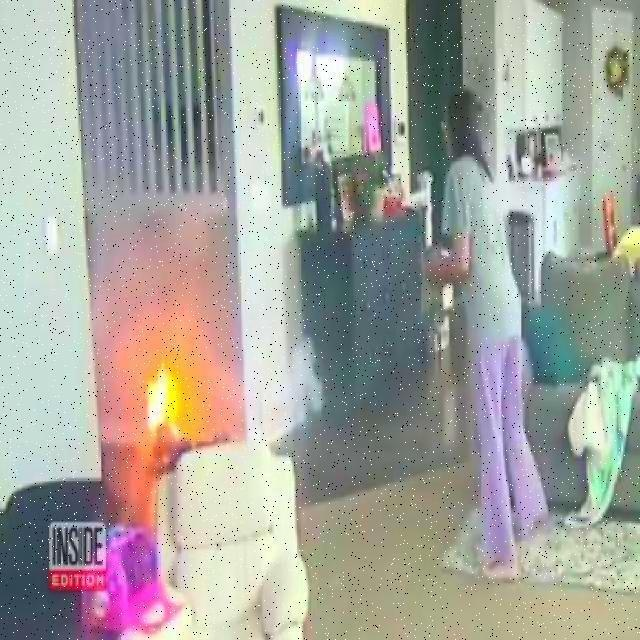fire: (107, 349, 218, 478)
